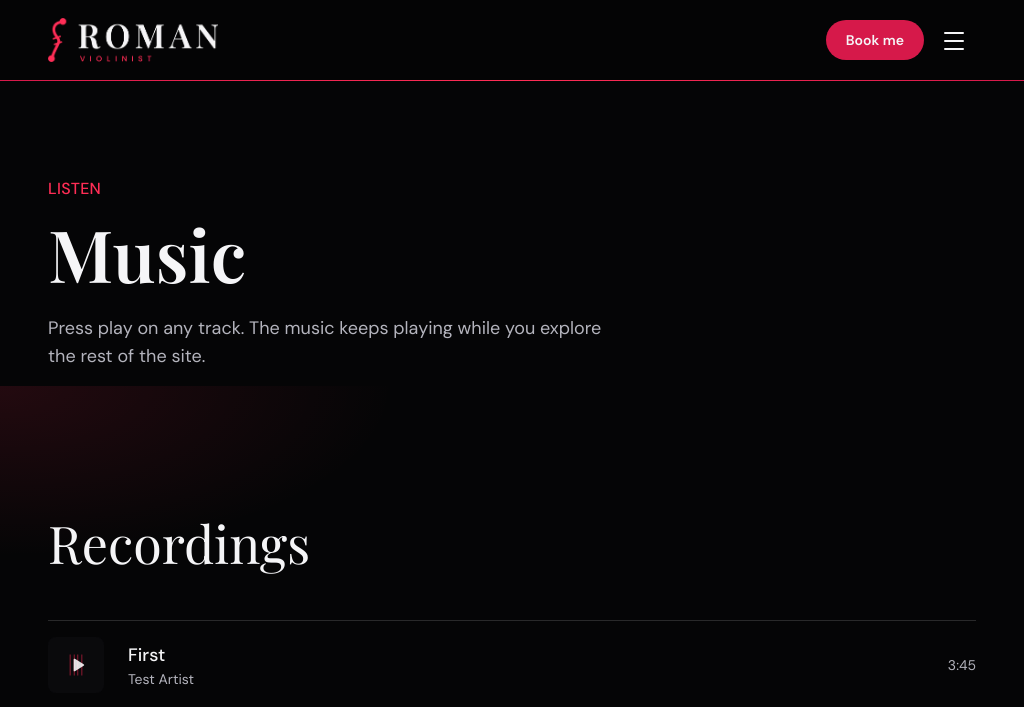
Test: music page and player › plays a track only when asked, and shows an accessible player
Expected: the heading "First" is shown, [128,643,165,667]
Click the button named "Play First". click: {"x": 76, "y": 665}
box: [48,637,104,693]
(page scrolled)
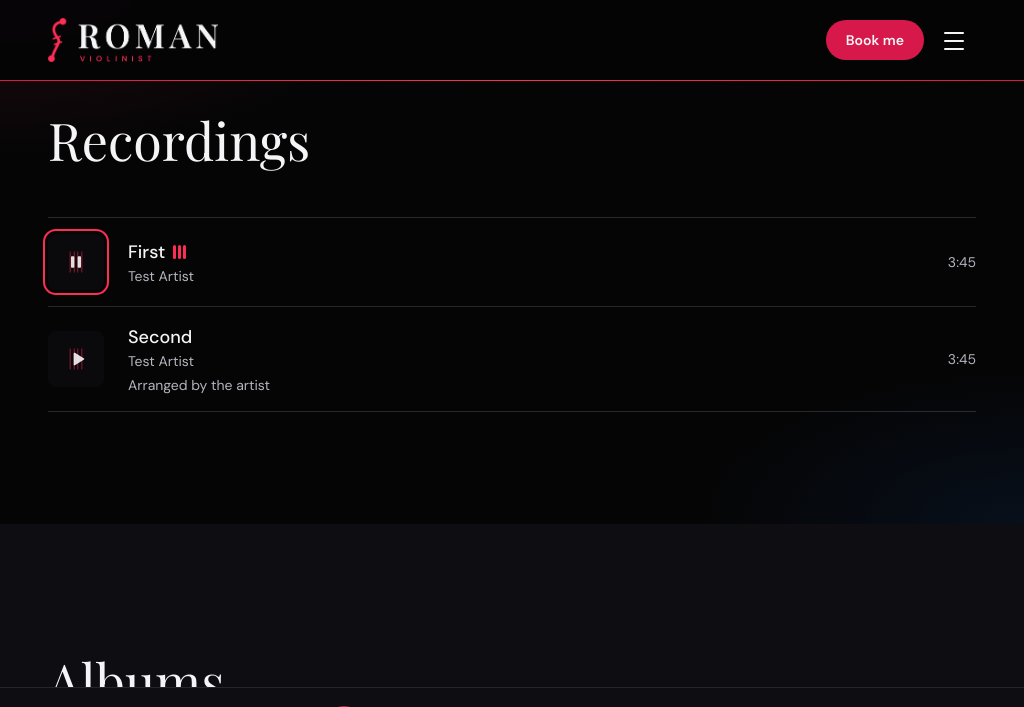
Expected: the text "Arranged by the artist" is shown, [128,376,270,394]
Now the button named "Pause First" below "Recordings" is shown, box [48,234,104,290]
